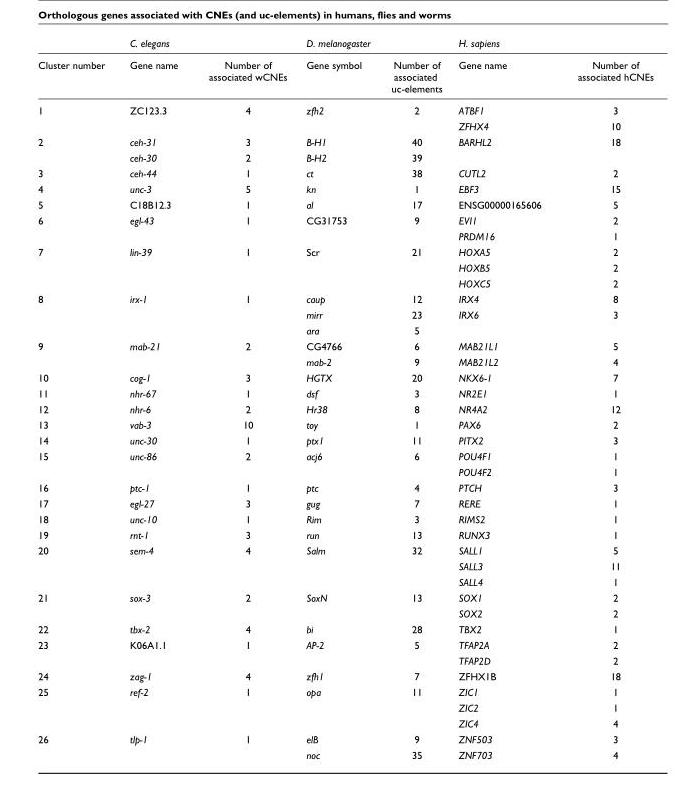table: (37, 36, 652, 760)
table column: (449, 36, 558, 760), (192, 36, 295, 760), (558, 36, 652, 760), (295, 36, 375, 760), (37, 36, 116, 760), (116, 36, 192, 760), (375, 36, 449, 760)
table column header: (37, 36, 652, 98)
table row: (37, 53, 652, 98), (37, 98, 652, 117), (37, 36, 652, 53), (37, 117, 652, 133), (37, 133, 652, 149), (37, 164, 652, 180), (37, 180, 652, 196), (37, 196, 652, 212), (37, 227, 652, 243), (37, 243, 652, 259), (37, 274, 652, 290), (37, 290, 652, 306), (37, 306, 652, 322), (37, 337, 652, 353), (37, 353, 652, 369), (37, 369, 652, 385), (37, 400, 652, 416), (37, 416, 652, 432), (37, 447, 652, 463), (37, 463, 652, 479), (37, 479, 652, 495), (37, 510, 652, 526), (37, 526, 652, 542), (37, 557, 652, 573), (37, 573, 652, 589), (37, 589, 652, 605), (37, 620, 652, 636), (37, 636, 652, 652), (37, 667, 652, 683), (37, 683, 652, 699), (37, 699, 652, 715), (37, 730, 652, 746), (37, 149, 652, 164), (37, 212, 652, 227), (37, 259, 652, 274), (37, 322, 652, 337), (37, 385, 652, 400), (37, 432, 652, 447), (37, 495, 652, 510), (37, 542, 652, 557), (37, 605, 652, 620), (37, 652, 652, 667), (37, 715, 652, 730), (37, 746, 652, 760)
table spanning cell: (37, 36, 116, 98), (37, 243, 116, 290), (37, 290, 116, 337), (37, 542, 116, 589), (37, 683, 116, 730), (449, 36, 652, 53), (116, 36, 295, 53), (37, 98, 116, 133), (295, 36, 449, 53), (37, 337, 116, 369), (37, 447, 116, 479), (37, 133, 116, 164), (37, 212, 116, 243), (37, 589, 116, 620), (37, 636, 116, 667), (37, 730, 116, 760)
